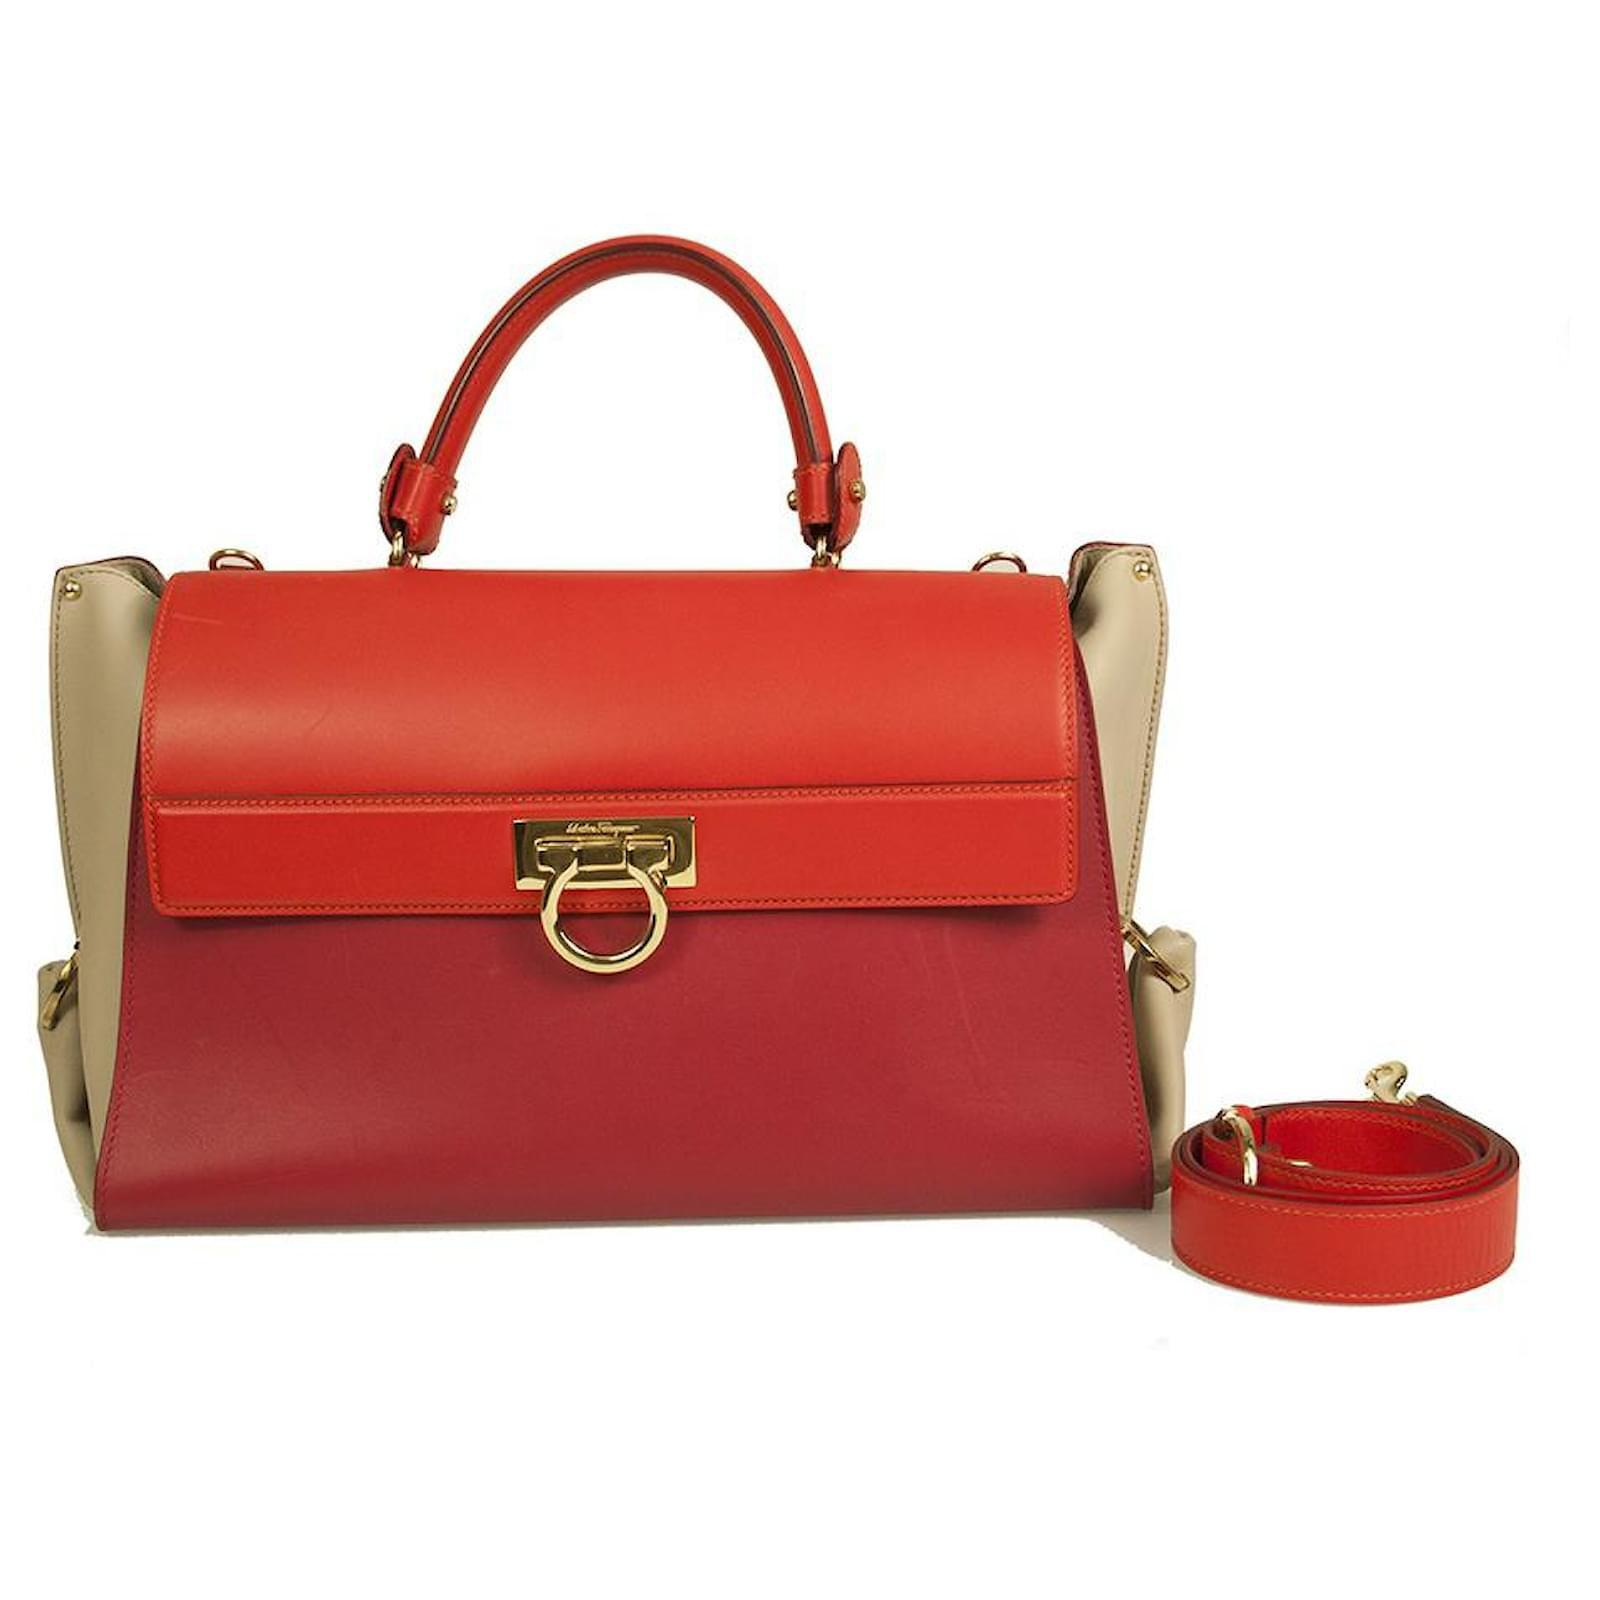FERRAGAMO: (501, 772, 725, 998)
